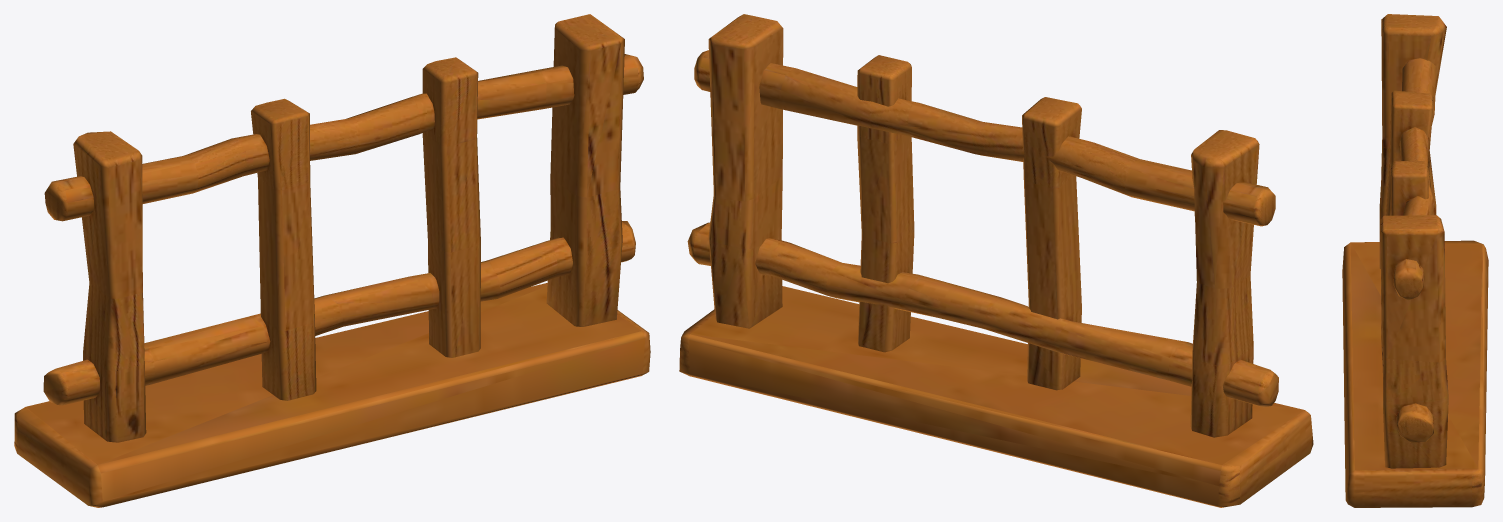
The model's file is arena-stockade.glb.
The picture shows the model from 3 angles, left to right: view 1: azimuth 30°, elevation 25°; view 2: azimuth 150°, elevation 25°; view 3: azimuth 270°, elevation 25°; orthographic projection. The views are drawn at different scales.
Bounding box in the file's own units: 0.9517 × 0.5098 × 0.2436.
Materials: 1 (1 with a texture image).
